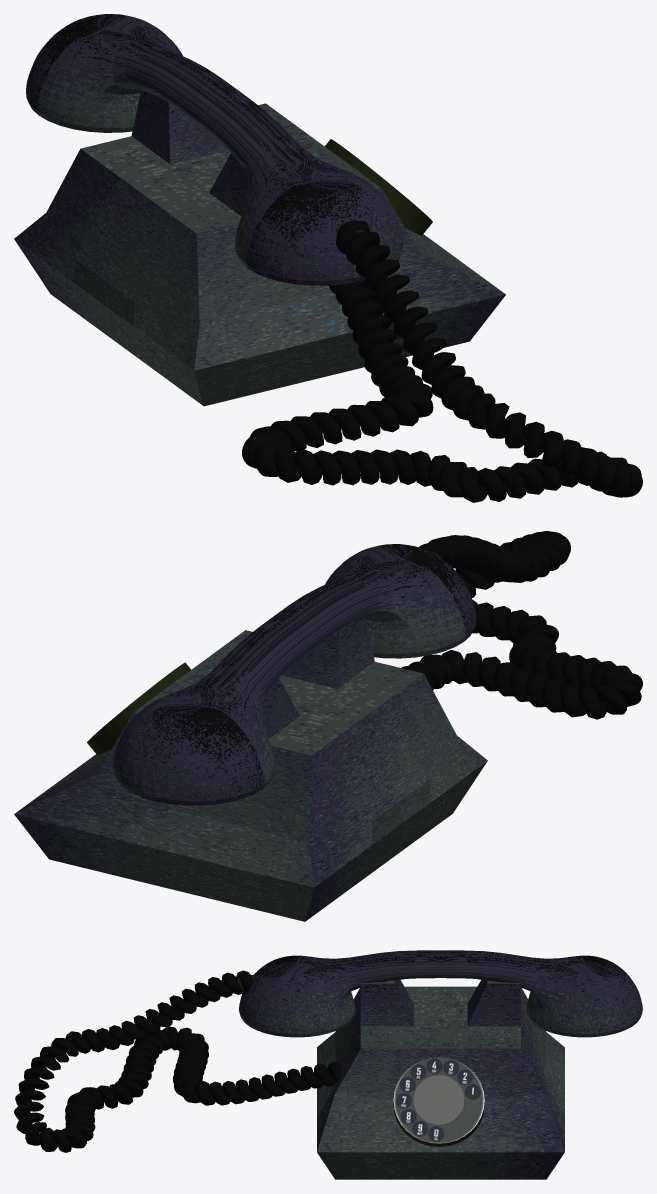
Rendered from Telefonemerda.fbx.
The picture shows the model from 3 angles, top to bottom: view 1: azimuth 30°, elevation 25°; view 2: azimuth 150°, elevation 25°; view 3: azimuth 270°, elevation 25°; orthographic projection. The views are drawn at different scales.
Visible parts, largest first — view 1: Telefone, Celular, cabo, Discagem; view 2: Telefone, Celular, cabo, Discagem; view 3: Telefone, Celular, cabo, Discagem.001, Discagem.
Boxes of the visible parts, <box> form: Telefone: <box>14,90,505,406</box>; Celular: <box>26,14,403,285</box>; cabo: <box>242,220,642,502</box>; Discagem: <box>325,139,432,235</box>; Telefone: <box>14,618,487,921</box>; Celular: <box>113,544,476,805</box>; cabo: <box>401,531,642,719</box>; Discagem: <box>87,662,190,755</box>; Telefone: <box>317,979,564,1179</box>; Celular: <box>237,950,642,1037</box>; cabo: <box>14,970,342,1152</box>; Discagem.001: <box>393,1057,484,1143</box>; Discagem: <box>393,1102,484,1146</box>.
Bounding box in the file's own units: 363 × 228 × 788.
4 materials, 2 textured.
